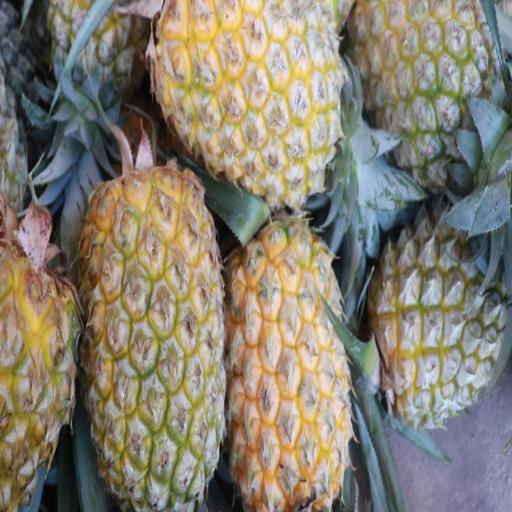------------------------------: (374, 208, 508, 421)
Pineapple - v8 v1: (86, 172, 228, 511), (154, 0, 344, 187), (232, 220, 346, 512), (354, 0, 496, 174)
